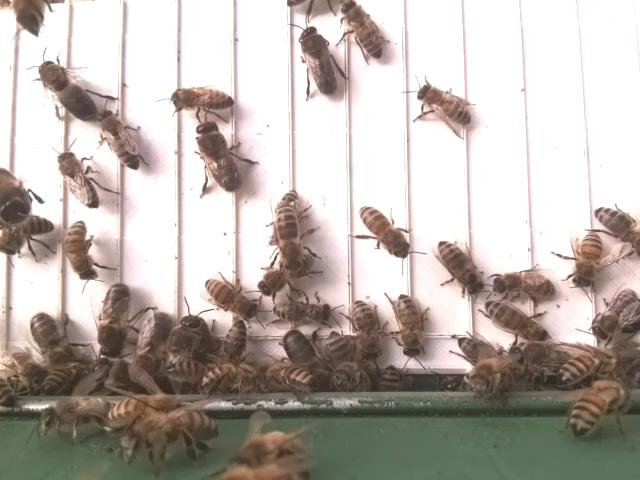Drone: (34, 56, 98, 127), (193, 118, 247, 194), (95, 283, 134, 361), (298, 24, 339, 97)
Worker: (357, 203, 412, 261), (95, 108, 143, 171), (339, 0, 386, 62), (57, 148, 102, 211), (484, 300, 549, 343), (0, 212, 58, 260), (592, 284, 640, 340), (414, 82, 472, 128), (437, 238, 481, 296), (202, 274, 256, 320), (62, 218, 99, 284), (350, 294, 384, 361), (395, 291, 428, 359), (568, 231, 604, 290), (592, 204, 640, 248), (274, 203, 304, 273), (166, 85, 238, 114), (491, 269, 554, 300), (273, 295, 334, 327)
